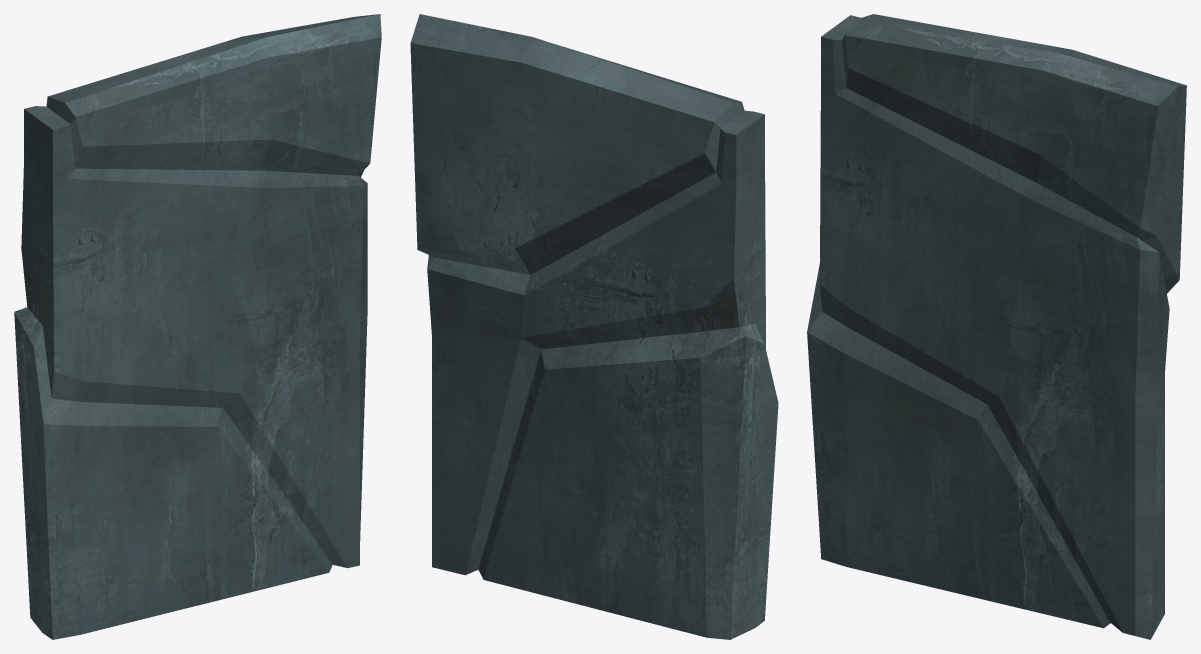
Rendered from RockWall_8.fbx.
3 views of the same model, side by side, from view 1: azimuth 30°, elevation 25°; view 2: azimuth 150°, elevation 25°; view 3: azimuth 330°, elevation 25° (orthographic). The views are drawn at different scales.
Parts seen in each view (by area): view 1: polySurface4; view 2: polySurface4; view 3: polySurface4.
Part boxes in pixels (x1,y1,x2,y2): polySurface4: (14,14,381,639); polySurface4: (410,14,778,639); polySurface4: (807,14,1186,639).
Size of the model in its own units: 9.67 by 14.52 by 2.02.
